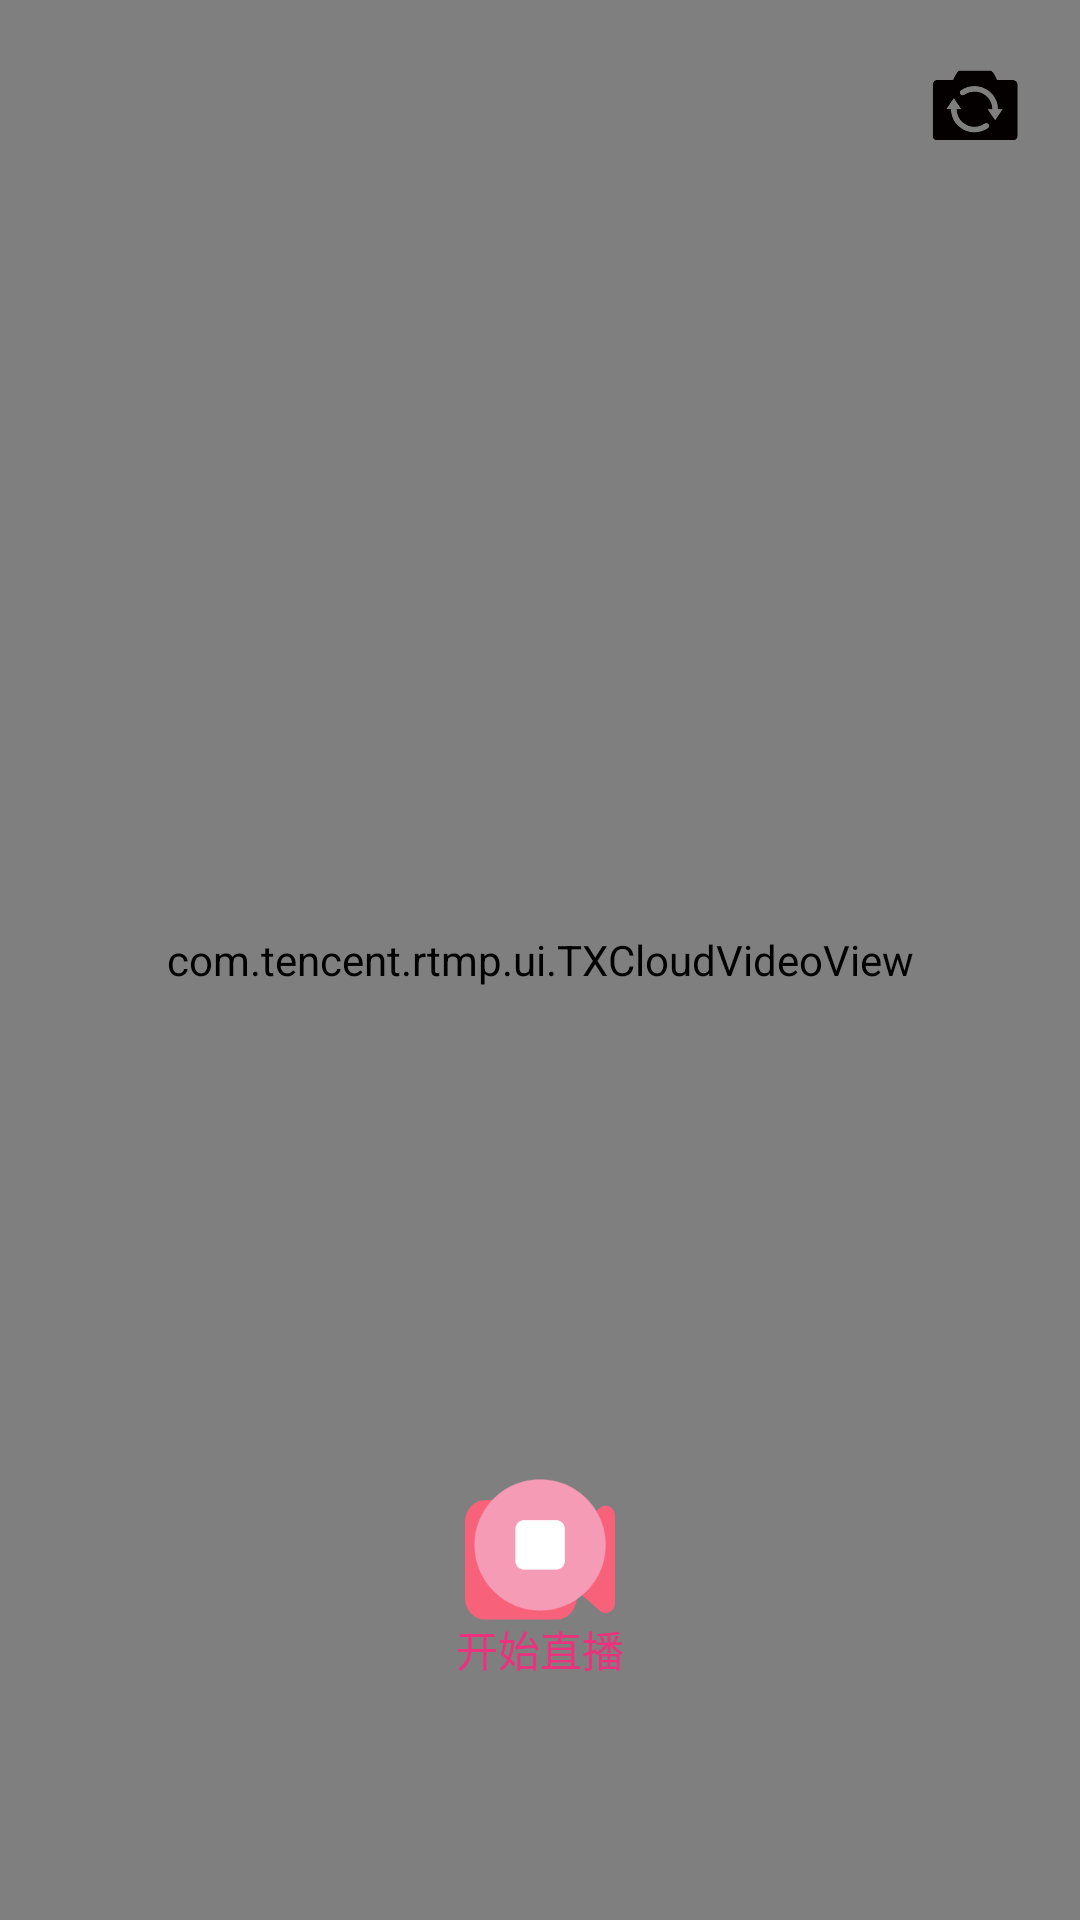

Named icons in this screenshot (1080x1920) and their centers, [x,y]:
carmera: [975,105]
